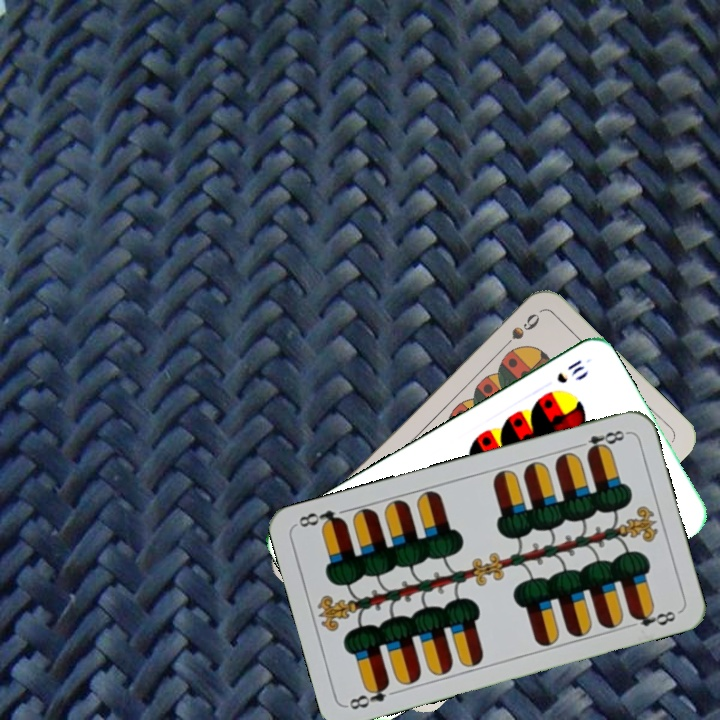E8: (572, 426, 630, 457), (344, 678, 392, 713)
S10: (552, 355, 587, 386)
S9: (496, 309, 543, 354)
